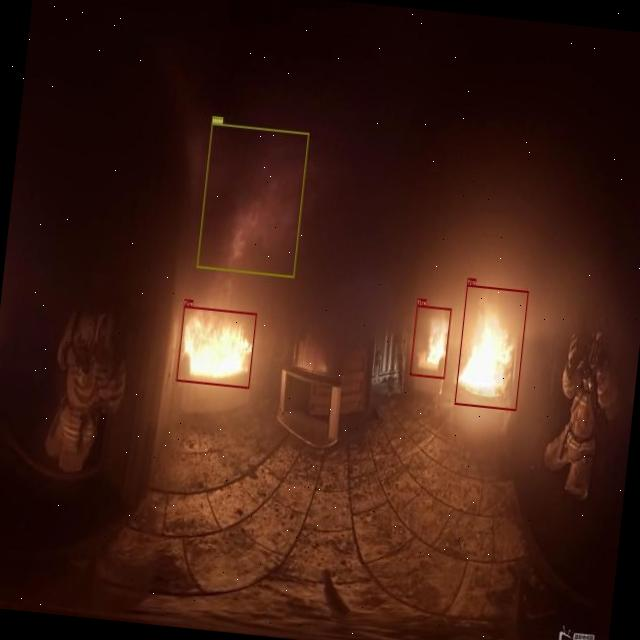fire: (454, 284, 528, 410), (175, 306, 256, 388), (409, 304, 451, 378)
smoke: (195, 122, 308, 277)
